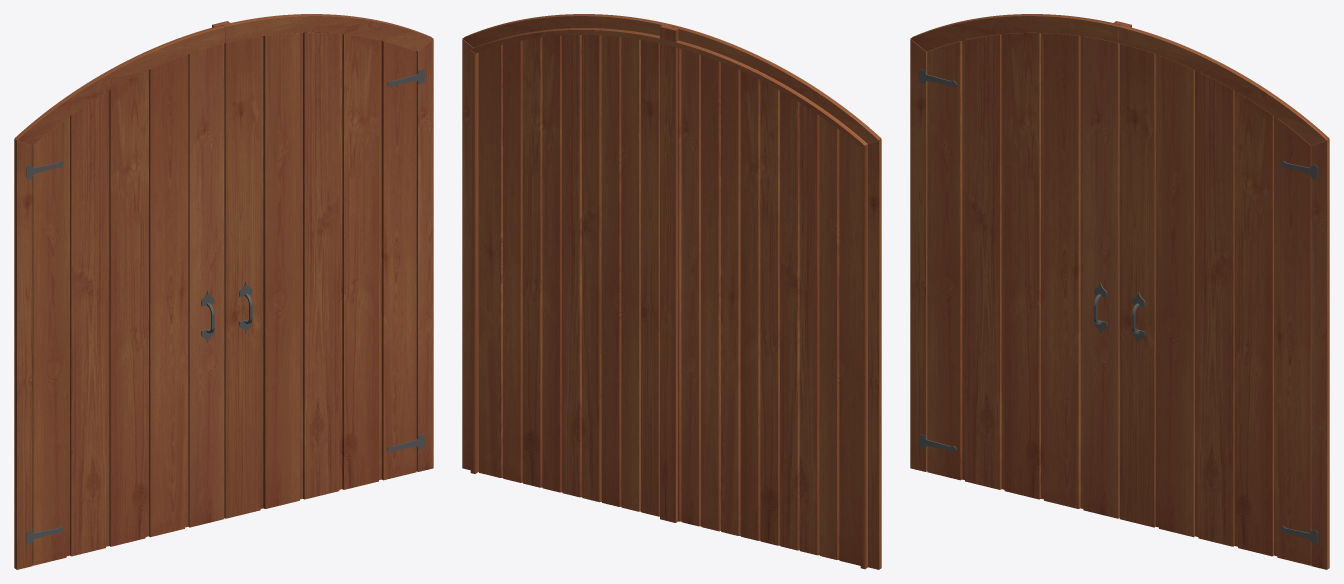
The picture shows the model from 3 angles, left to right: view 1: azimuth 30°, elevation 25°; view 2: azimuth 150°, elevation 25°; view 3: azimuth 330°, elevation 25°; orthographic projection.
Visible parts, largest first — view 1: planck007, planck004, planck008, planck003, planck009, planck002, planck006, planck005, planck010, planck001, trim_left, trim_right (+2 smaller); view 2: planck010, planck007, planck004, planck008, planck003, planck001, planck009, planck002, planck005, planck006, astragal, trim_left (+6 smaller); view 3: planck004, planck007, planck003, planck008, planck002, planck009, planck005, planck006, planck001, planck010, trim_right, trim_left (+2 smaller).
Part boxes in pixels (<box>): planck007: <box>260,33,299,508</box>; planck004: <box>149,54,188,537</box>; planck008: <box>300,32,339,499</box>; planck003: <box>109,70,148,546</box>; planck009: <box>339,34,378,489</box>; planck002: <box>70,91,109,556</box>; planck006: <box>224,36,260,518</box>; planck005: <box>188,43,224,527</box>; planck010: <box>378,39,416,480</box>; planck001: <box>32,116,69,565</box>; trim_left: <box>14,139,32,569</box>; trim_right: <box>416,39,433,471</box>; planck010: <box>478,40,522,482</box>; planck007: <box>601,35,640,511</box>; planck004: <box>701,55,740,535</box>; planck008: <box>562,35,601,502</box>; planck003: <box>740,71,779,545</box>; planck001: <box>819,115,860,565</box>; planck009: <box>522,35,561,492</box>; planck002: <box>780,91,819,555</box>; planck005: <box>678,48,700,526</box>; planck006: <box>641,40,659,516</box>; astragal: <box>660,25,678,522</box>; trim_left: <box>868,139,881,569</box>; planck004: <box>1044,33,1083,508</box>; planck007: <box>1155,54,1194,537</box>; planck003: <box>1004,32,1043,499</box>; planck008: <box>1195,70,1234,546</box>; planck002: <box>965,34,1004,489</box>; planck009: <box>1234,91,1273,556</box>; planck005: <box>1083,36,1119,518</box>; planck006: <box>1119,43,1155,527</box>; planck001: <box>927,39,965,480</box>; planck010: <box>1274,116,1311,565</box>; trim_right: <box>1311,139,1329,569</box>; trim_left: <box>910,39,927,471</box>.
Size of the model in its own units: 66 by 74.5 by 3.09.
Materials: 9 (8 with a texture image).
